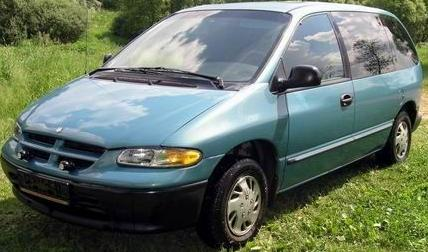front_view: (6, 121, 226, 223)
headlight: (105, 123, 214, 180)
side_glass: (270, 12, 413, 83)
